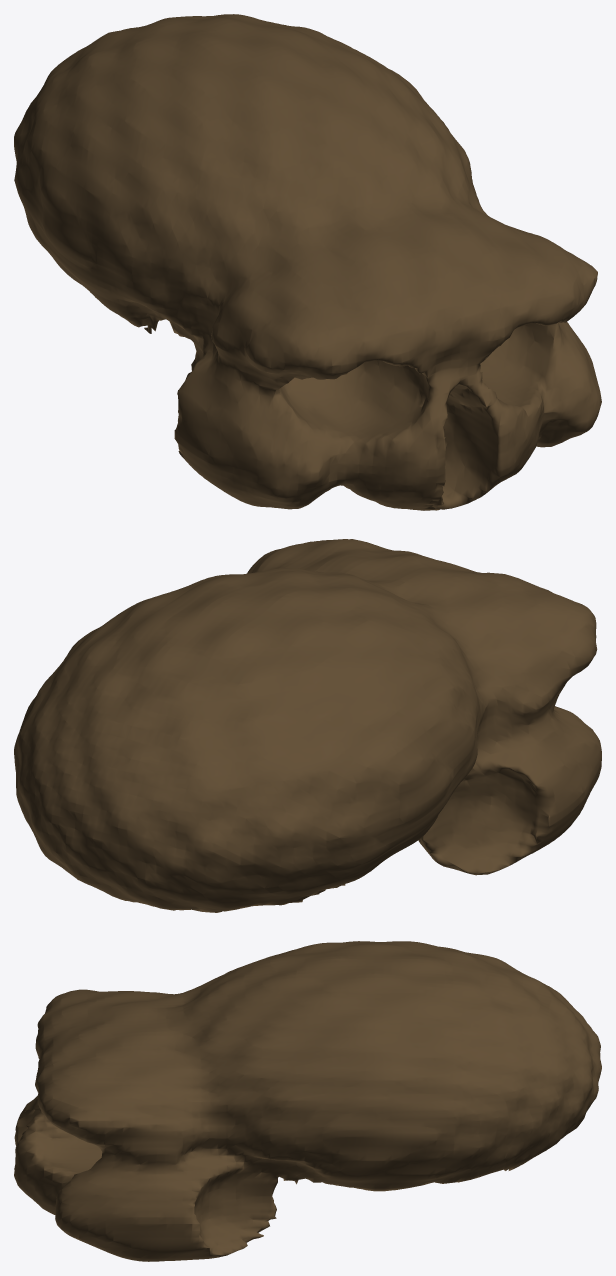
3 views of the same model, one above another, from view 1: azimuth 30°, elevation 25°; view 2: azimuth 150°, elevation 25°; view 3: azimuth 270°, elevation 25° (orthographic). The views are drawn at different scales.
Visible parts, largest first — view 1: WEB_A06; view 2: WEB_A06; view 3: WEB_A06.
Boxes of the visible parts, x1,y1,x2,y2 form: WEB_A06: (14,14,601,510); WEB_A06: (14,539,601,912); WEB_A06: (14,941,601,1261).
Size of the model in its own units: 0.1661 by 0.1305 by 0.2821.
